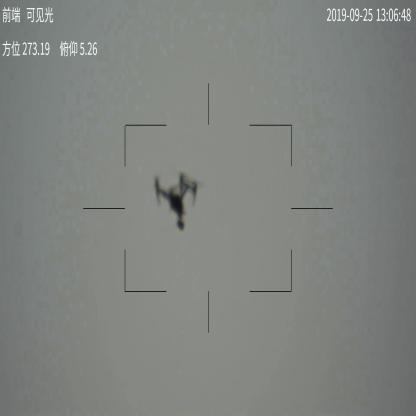uav: (148, 166, 200, 231)
